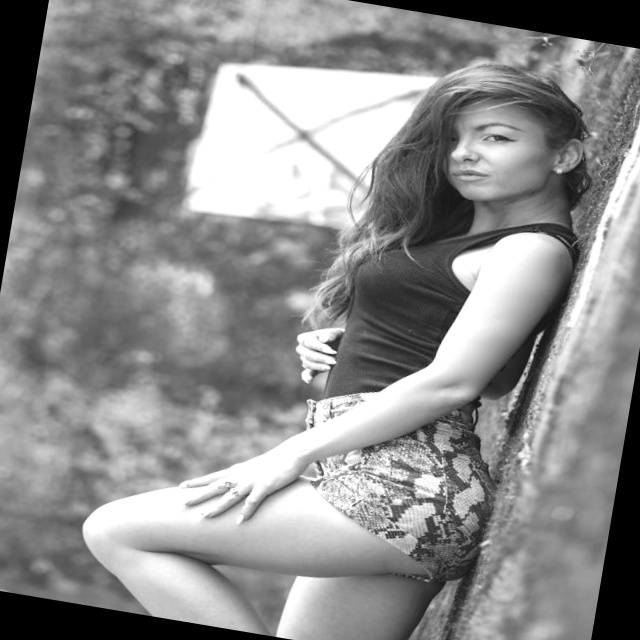foam_scum: (83, 233, 557, 630), (183, 60, 500, 263), (509, 106, 640, 500), (216, 0, 378, 44)
turbid_water: (13, 13, 627, 627)
